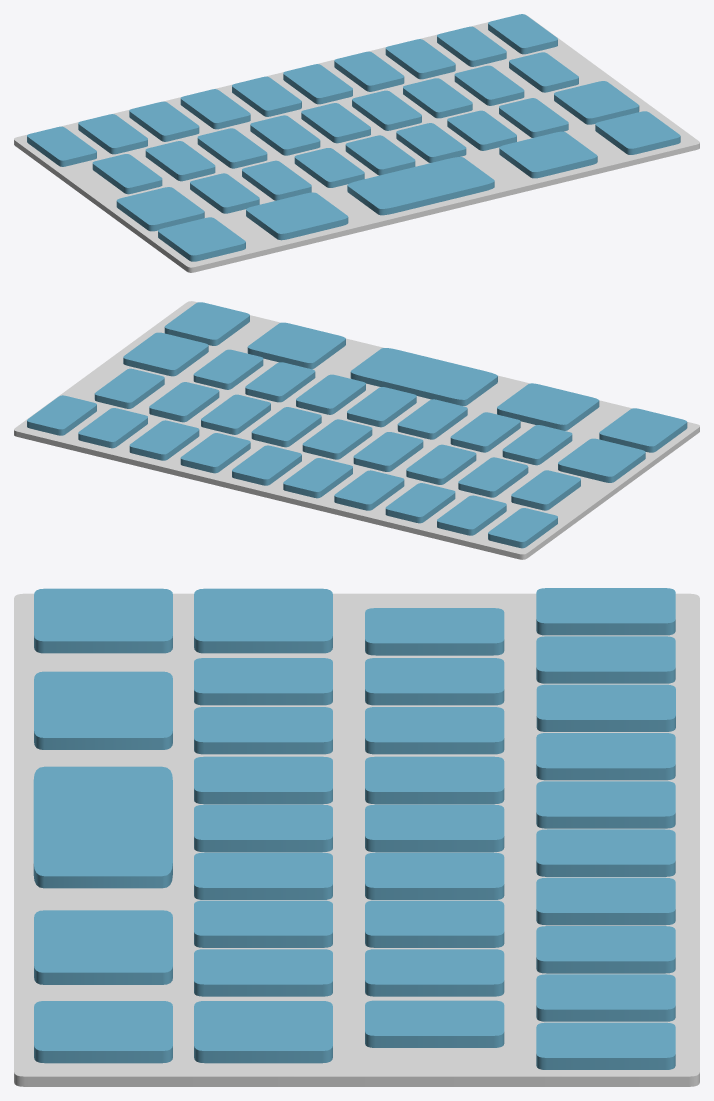
File: PhoneKeyboard.FBX
3 views of the same model, one above another, from view 1: azimuth 30°, elevation 25°; view 2: azimuth 150°, elevation 25°; view 3: azimuth 270°, elevation 25° (orthographic). The views are drawn at different scales.
Parts seen in each view (by area): view 1: NormalKeyboard, space, period, comma, sym, shift, enter, back, e, i, a, s (+22 smaller); view 2: NormalKeyboard, space, period, comma, shift, sym, back, enter, d, r, u, e (+22 smaller); view 3: NormalKeyboard, space, period, comma, shift, sym, back, enter, f, g, u, c (+22 smaller).
Part boxes in pixels (<box>): NormalKeyboard: <box>14,15,699,272</box>; space: <box>347,157,494,215</box>; period: <box>246,192,348,240</box>; comma: <box>499,131,597,178</box>; sym: <box>158,217,245,261</box>; shift: <box>116,187,204,231</box>; enter: <box>595,111,680,154</box>; back: <box>554,81,639,124</box>; e: <box>129,101,199,141</box>; i: <box>385,39,455,79</box>; a: <box>92,154,162,194</box>; s: <box>145,141,215,181</box>; NormalKeyboard: <box>14,301,699,559</box>; space: <box>350,348,497,405</box>; period: <box>497,383,599,430</box>; comma: <box>247,322,345,369</box>; shift: <box>558,438,645,482</box>; sym: <box>599,408,687,452</box>; back: <box>123,332,208,376</box>; enter: <box>164,302,249,345</box>; d: <box>406,444,476,484</box>; r: <box>334,470,404,510</box>; u: <box>180,433,250,473</box>; e: <box>385,483,455,523</box>; NormalKeyboard: <box>14,593,699,1086</box>; space: <box>33,766,172,888</box>; period: <box>34,671,172,749</box>; comma: <box>34,910,172,984</box>; shift: <box>194,588,332,653</box>; sym: <box>34,588,172,653</box>; back: <box>194,1001,332,1063</box>; enter: <box>34,1001,172,1063</box>; f: <box>365,756,504,804</box>; g: <box>365,804,504,852</box>; u: <box>536,877,675,925</box>; c: <box>194,756,332,804</box>.
Bounding box in the file's own units: 110 × 2.39 × 66.04.
